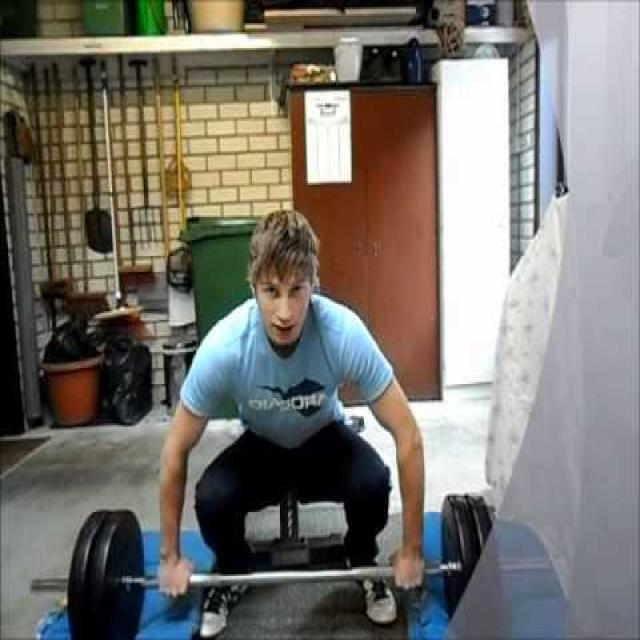bench: (32, 204, 534, 640)
